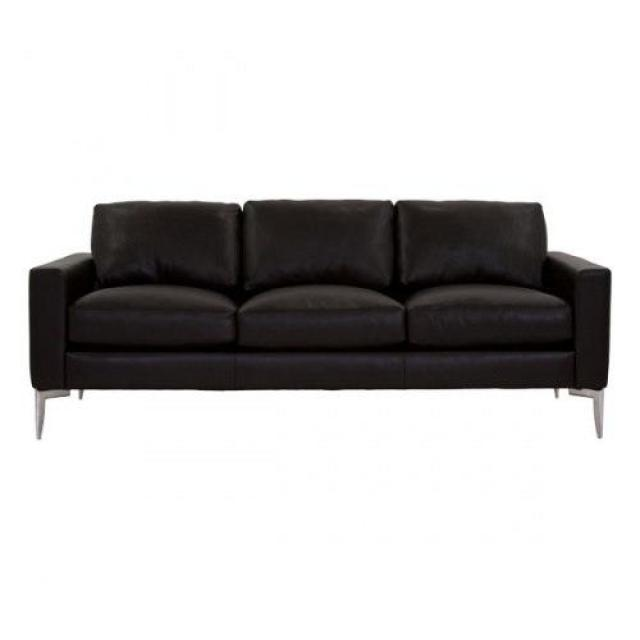sofa: (27, 197, 614, 442)
